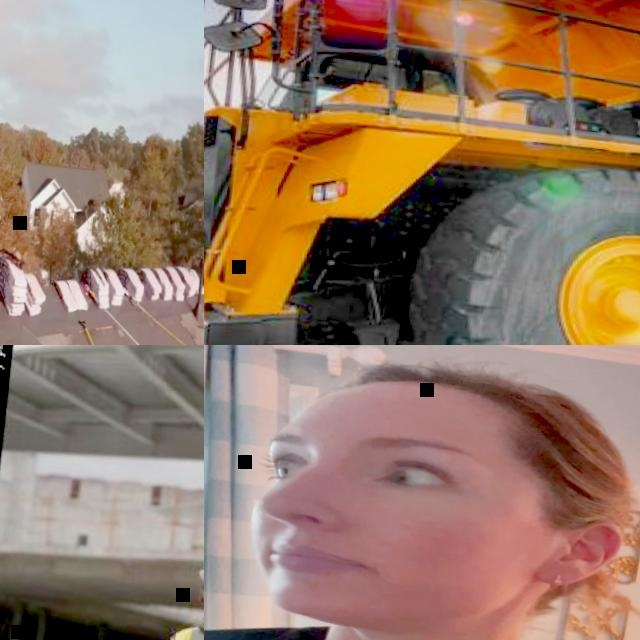NO-Hardhat: (299, 345, 622, 449)
NO-Mask: (241, 477, 594, 640)
Person: (204, 345, 640, 640)
machinery: (204, 0, 640, 345)
